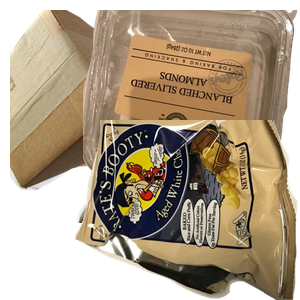cardboard: (10, 10, 206, 190)
glass: (74, 120, 244, 300)
plastic: (83, 10, 300, 190)
trash: (75, 120, 300, 300)
